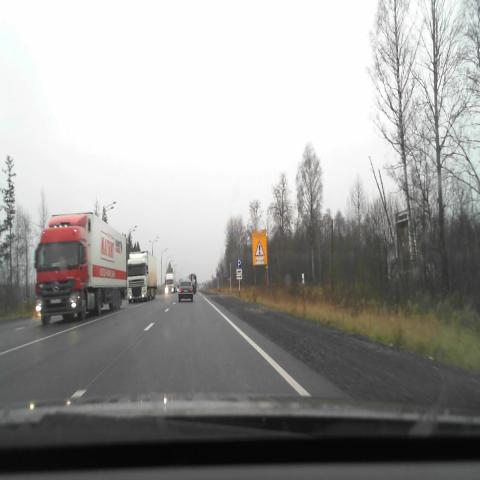1_33: (255, 241, 264, 256)
